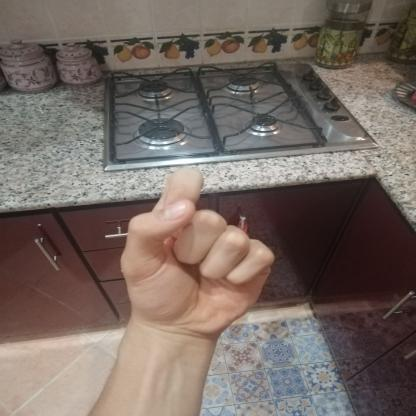FAA: (99, 156, 295, 349)
